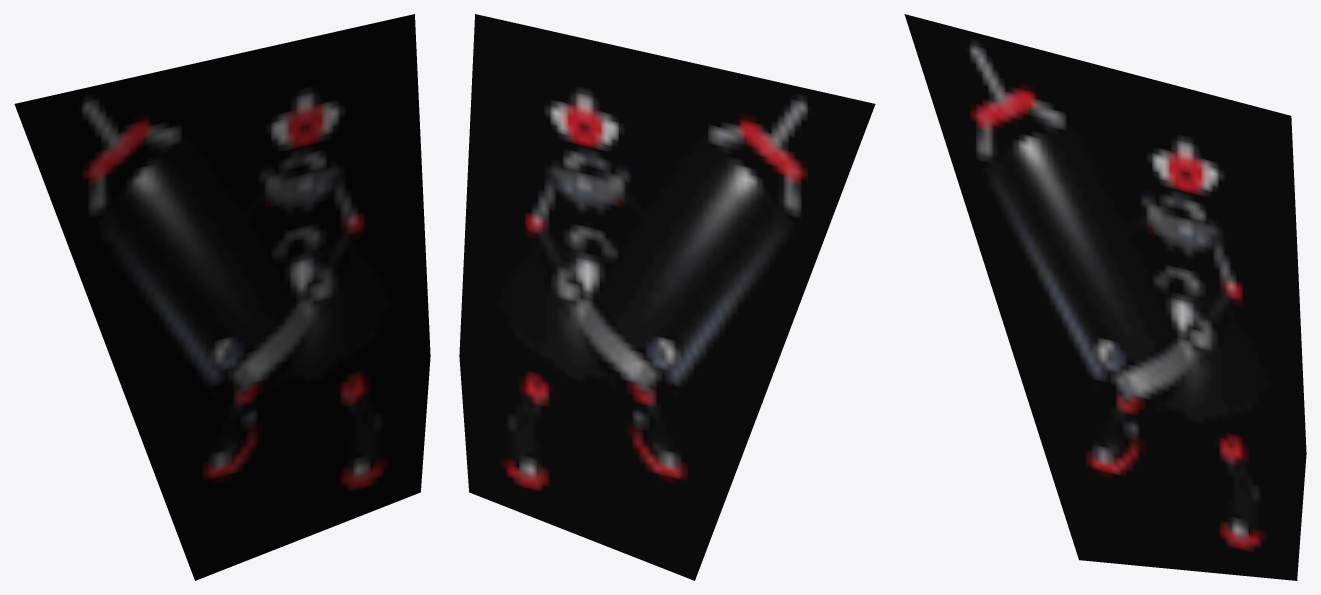
The picture shows the model from 3 angles, left to right: view 1: azimuth 30°, elevation 25°; view 2: azimuth 150°, elevation 25°; view 3: azimuth 330°, elevation 25°; orthographic projection. The views are drawn at different scales.
Parts seen in each view (by area): view 1: Joint_0_Object_0; view 2: Joint_0_Object_0; view 3: Joint_0_Object_0.
Part boxes in pixels (bbox=[...]): Joint_0_Object_0: bbox=[14, 14, 430, 580]; Joint_0_Object_0: bbox=[459, 14, 875, 580]; Joint_0_Object_0: bbox=[904, 14, 1306, 580].
Bounding box in the file's own units: 65.93 × 78.89 × 0.
1 material, 1 textured.
